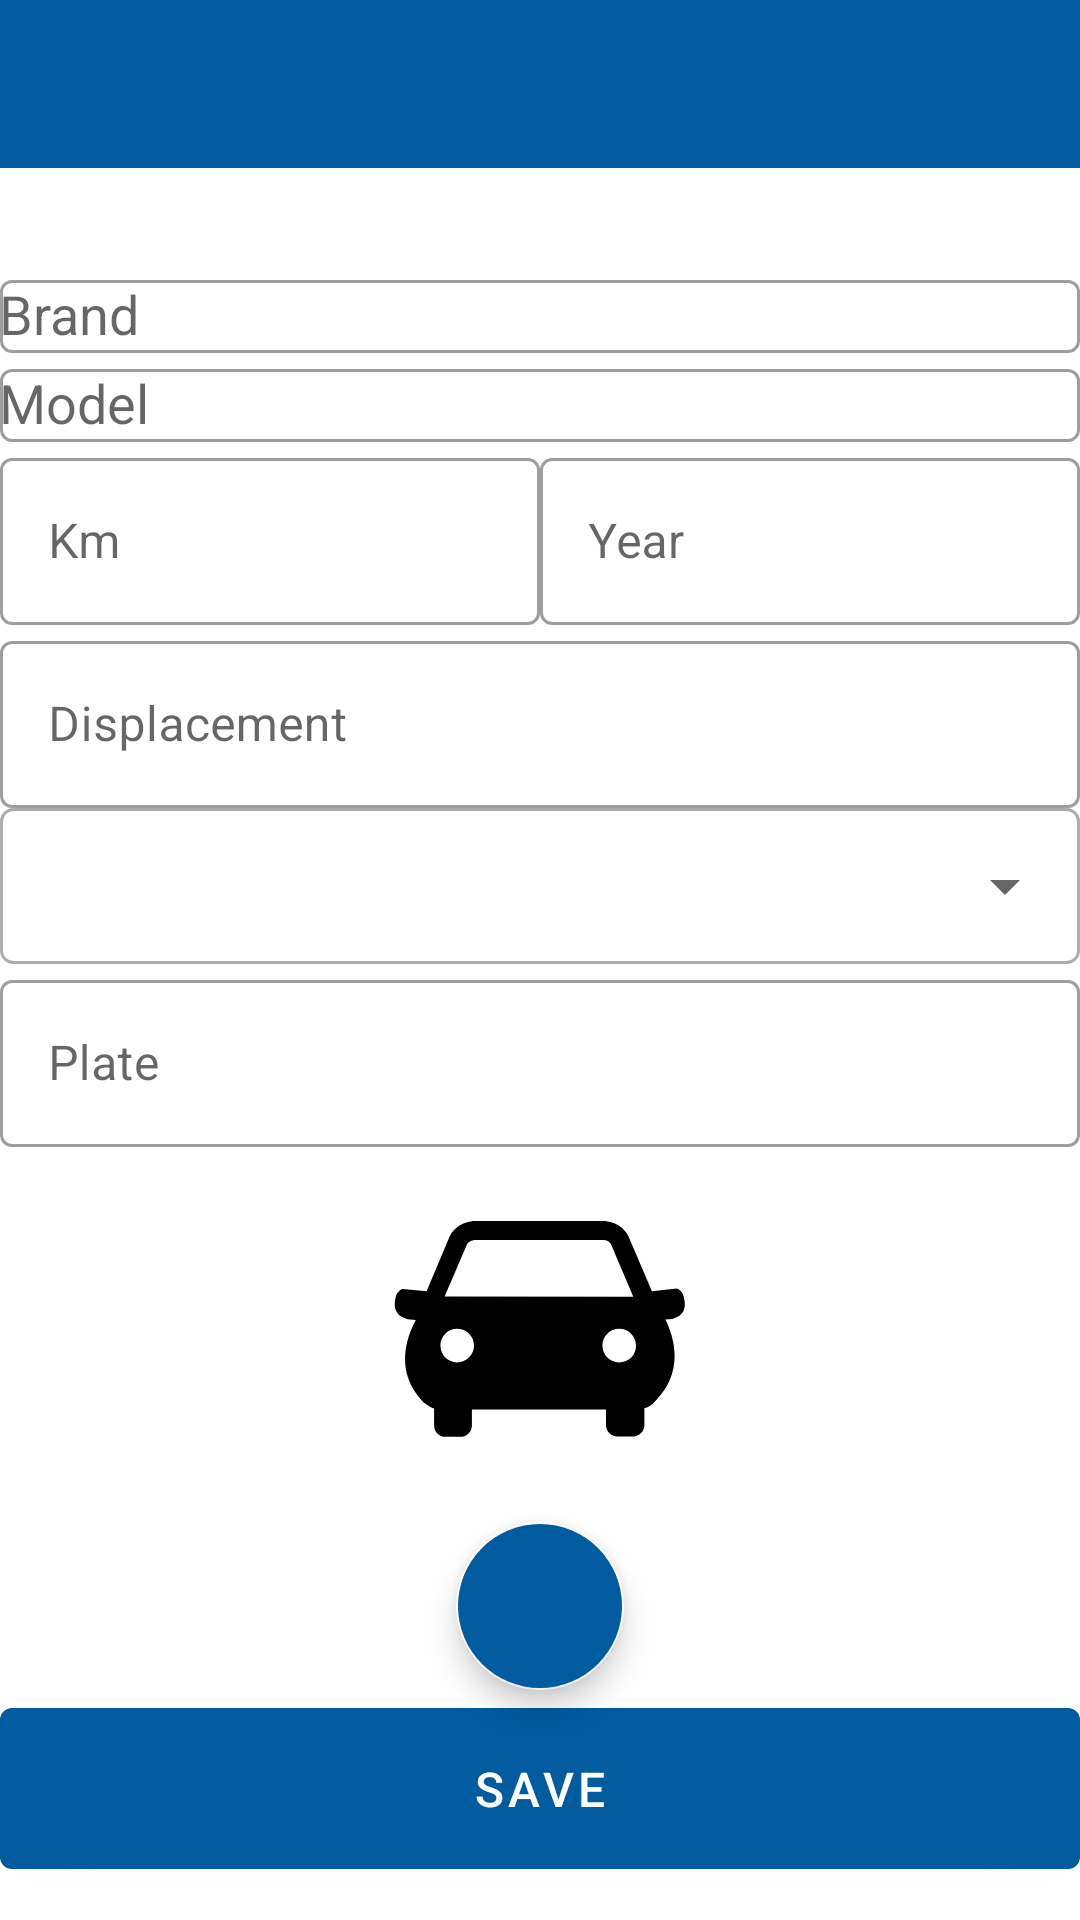

Named icons in this screenshot (1080*1920) and their centers, (x,y):
car: (539,1329)
